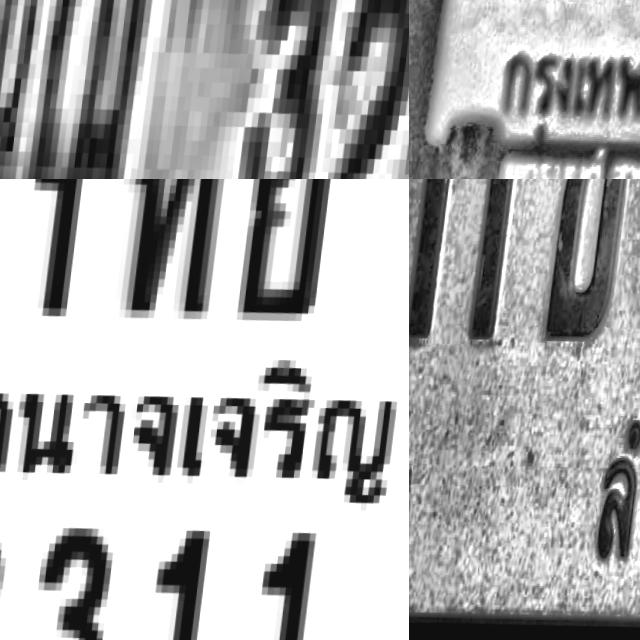license-plate: (0, 179, 409, 640), (409, 179, 640, 640), (0, 0, 409, 179), (409, 0, 640, 179)
